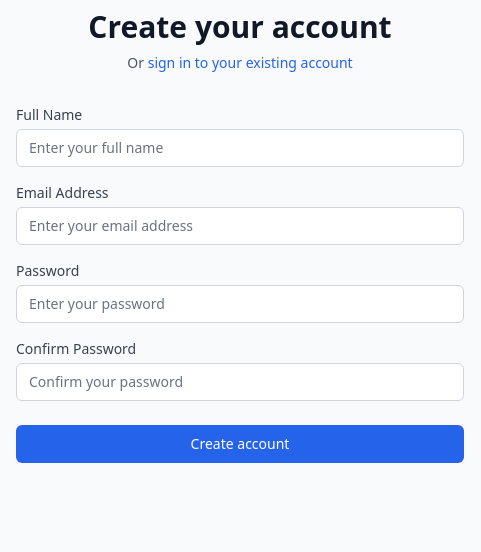
Scenario: RegisterForm › should show validation error for mismatched passwords
This screenshot has width=481, height=552.
Type "password123" into the password field with placeholder "Enter your password" at (240, 304), box [16,285,464,323]
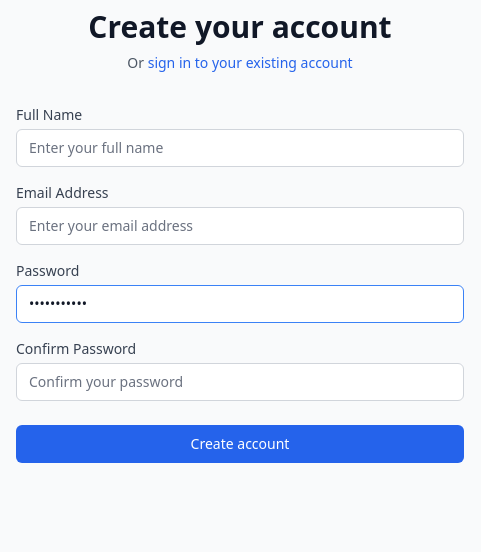
Type "differentpassword" into the password field with placeholder "Confirm your password" at (240, 382), box [16,363,464,401]
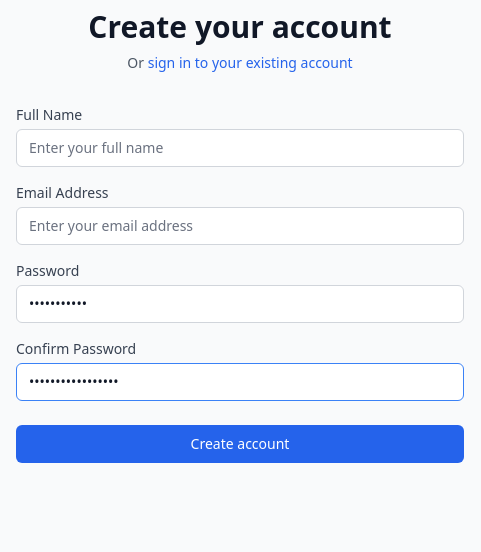
Click the button "Create account" at (240, 444), box [16,425,464,463]
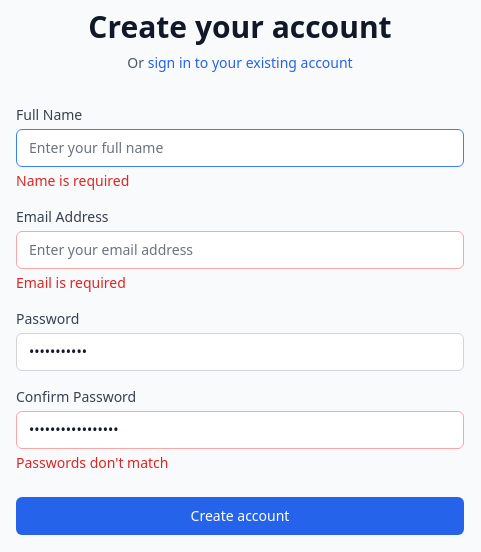
Now the text "Passwords don't match" is shown, box [16,453,168,472]
